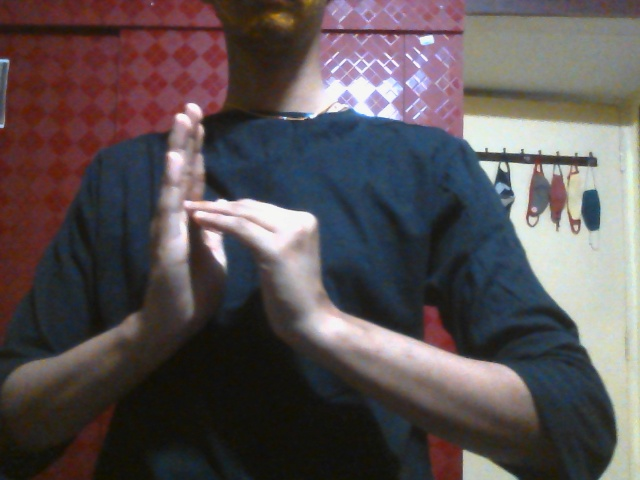Z: (125, 103, 349, 381)
